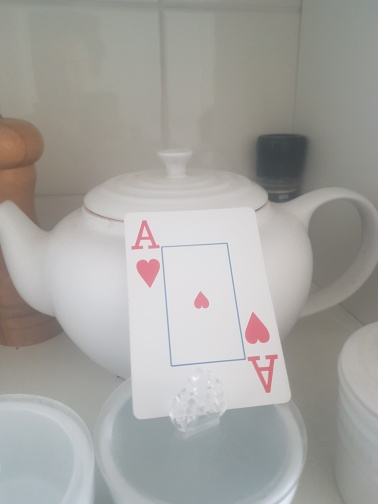ace: (124, 206, 291, 419)
